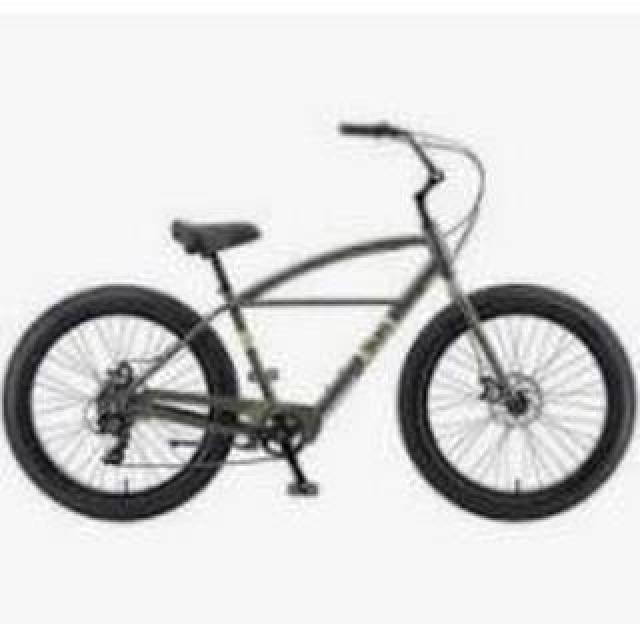Person: (4, 122, 640, 538)
